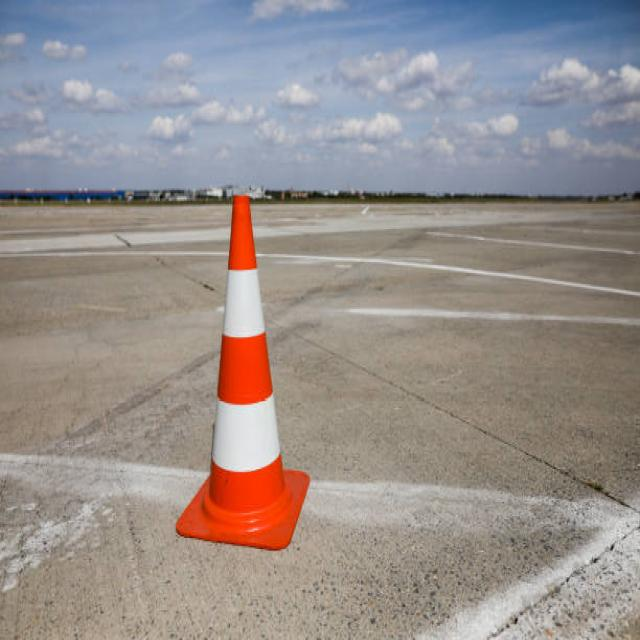Traffic Cone: (138, 148, 351, 579)
